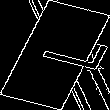L_W: (14, 32, 96, 78)
